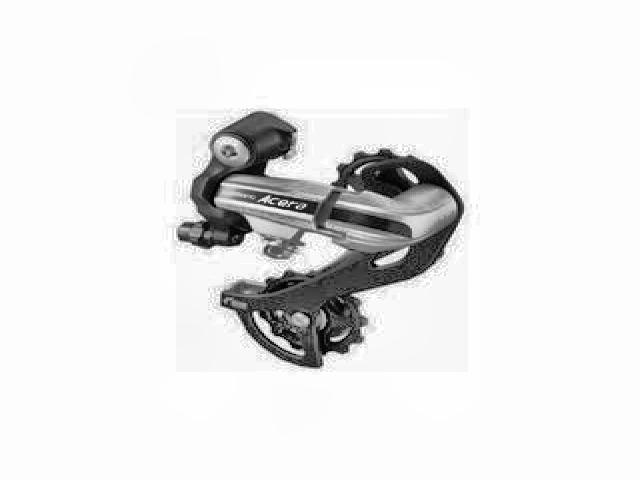rear_derailleur: (174, 109, 468, 375)
